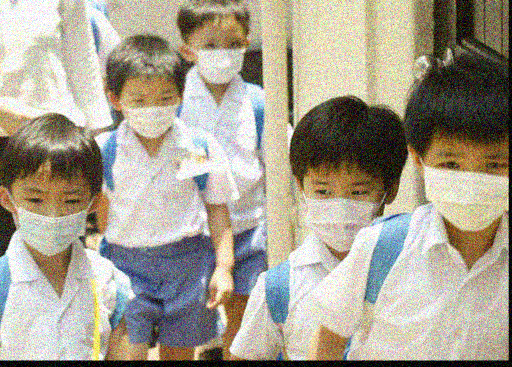with_mask: (420, 146, 508, 235), (303, 173, 384, 253), (12, 184, 88, 258), (120, 85, 179, 140), (192, 32, 245, 86)
